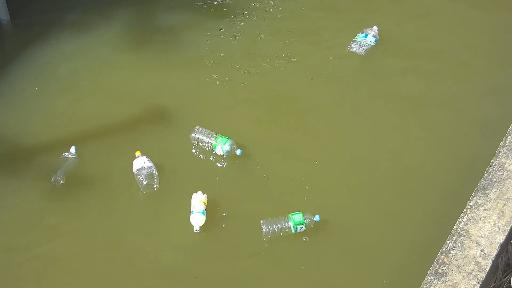plastic: (181, 123, 251, 161), (51, 133, 85, 192), (123, 147, 160, 195), (256, 213, 323, 234), (351, 22, 383, 53), (187, 190, 204, 225)
